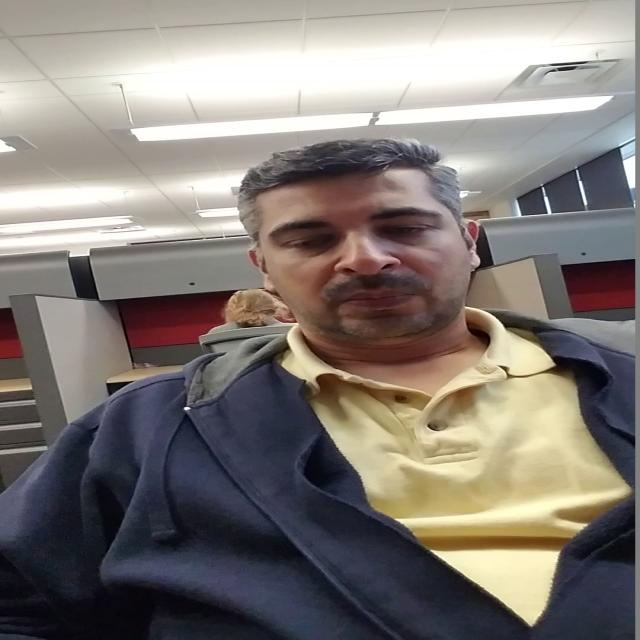sem_oculos: (249, 206, 502, 256)
